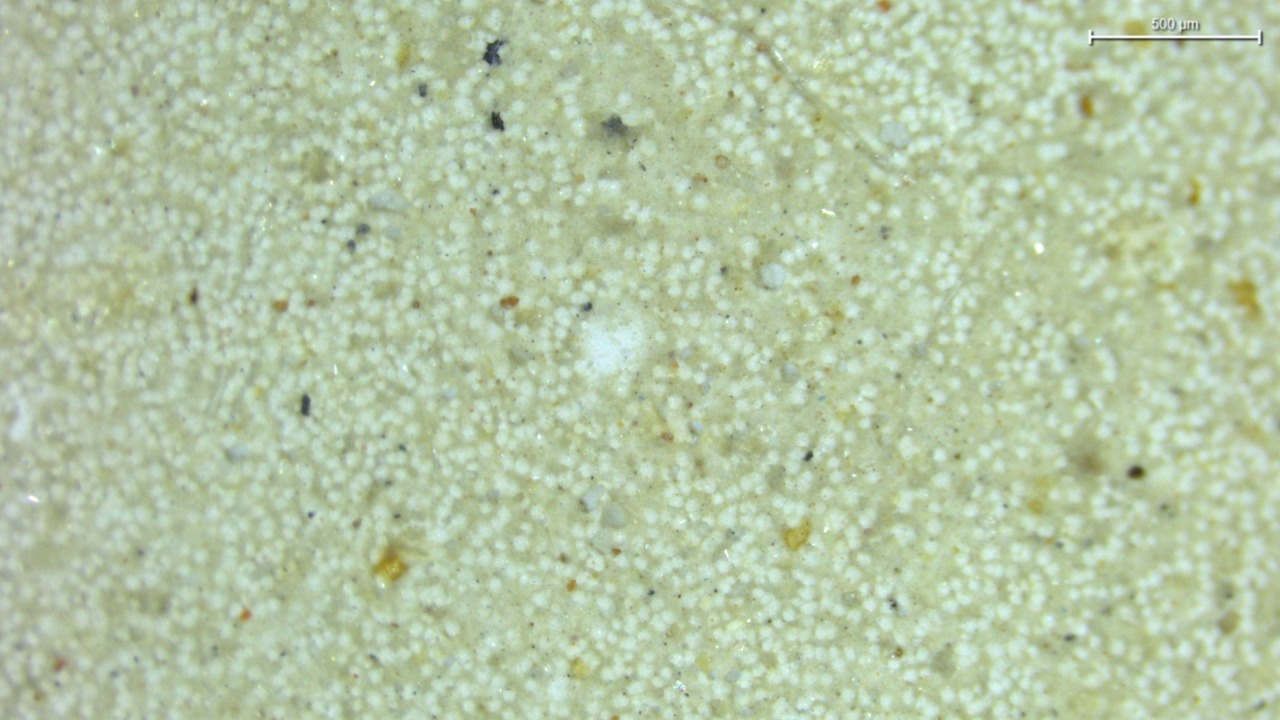microplastic_fragment: (761, 262, 786, 288), (581, 485, 604, 510), (601, 506, 626, 528)
